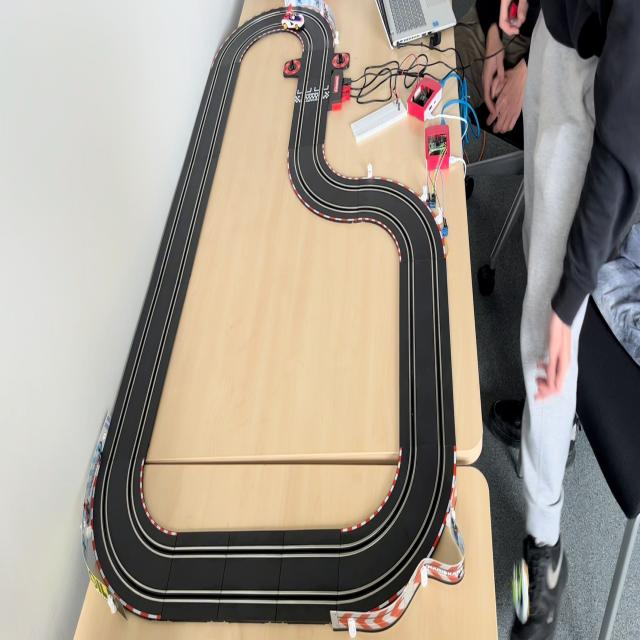mario: (281, 14, 306, 32)
yoshi: (510, 558, 535, 629)
